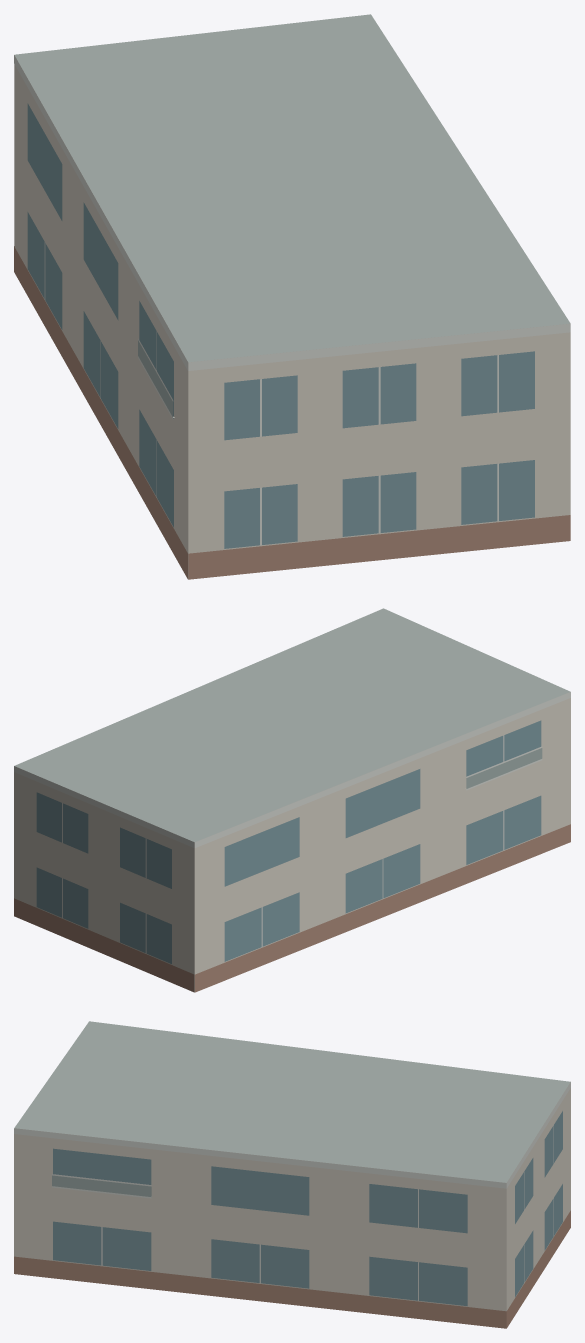
File: survey-upis-32491623.glb
The picture shows the model from 3 angles, top to bottom: view 1: azimuth 30°, elevation 25°; view 2: azimuth 150°, elevation 25°; view 3: azimuth 270°, elevation 25°; orthographic projection. The views are drawn at different scales.
Parts seen in each view (by area): view 1: survey-upis-32491623.tmp; view 2: survey-upis-32491623.tmp; view 3: survey-upis-32491623.tmp.
Part boxes in pixels (<box>): survey-upis-32491623.tmp: <box>14,14,570,579</box>; survey-upis-32491623.tmp: <box>14,608,570,992</box>; survey-upis-32491623.tmp: <box>14,1021,570,1328</box>.
Bounding box in the file's own units: 14.52 × 6.1 × 21.12.
